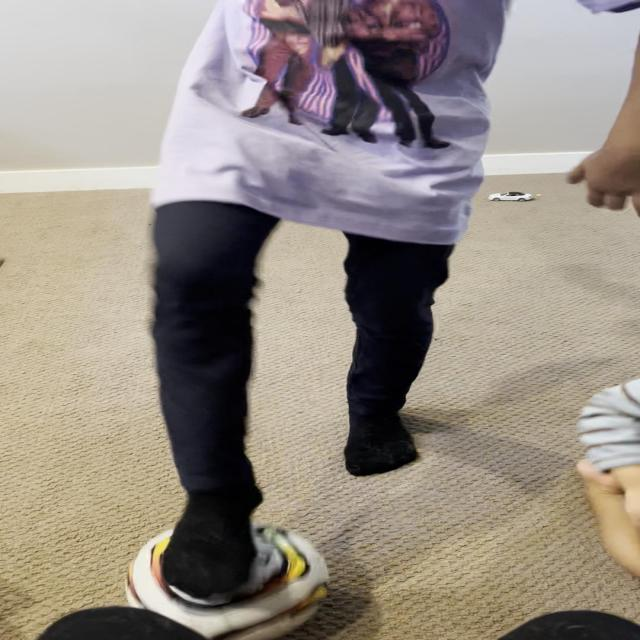Soccer Ball: (122, 521, 328, 640)
